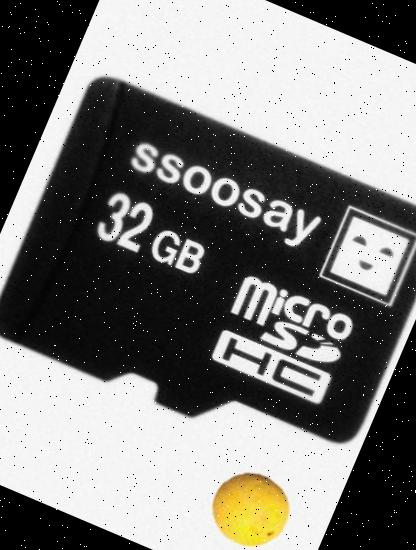Cantaloupe: (199, 460, 300, 550)
